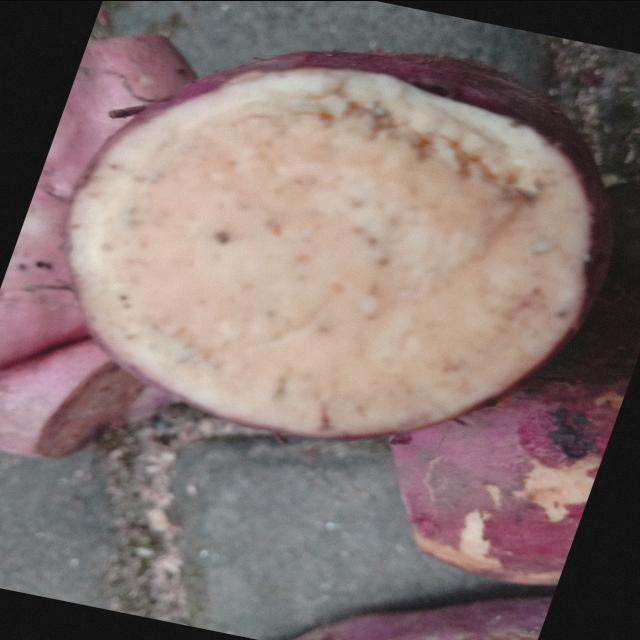Healthy Sweet Potato: (70, 68, 592, 436)
